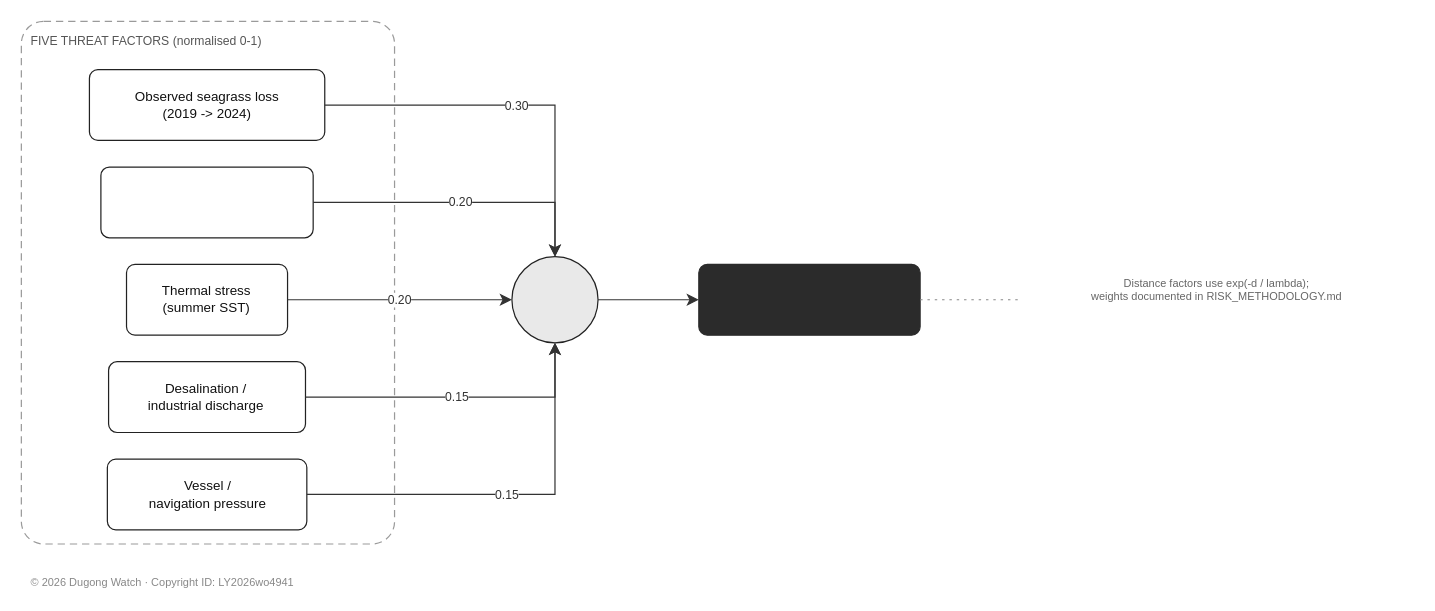
This 1435x611 diagram has some shape labels left out. The shapes that lost their labels are listed below. From the top down, each one's centre as x and y in pixels, then its label:
point 206,202: Coastal development / dredging
point 554,299: Weighted sum
point 809,299: Combined threat pressure surface (0-1)
